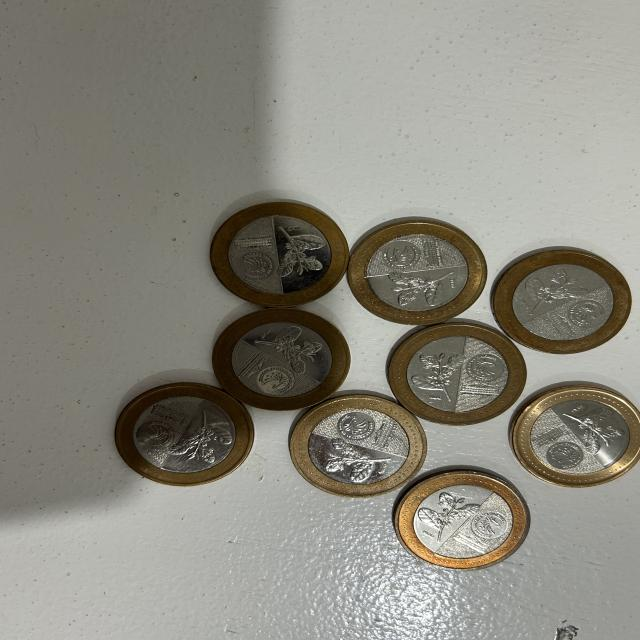20_New_Back: (400, 344, 470, 407)
